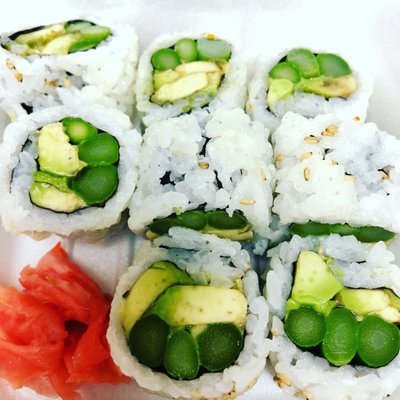curry: (264, 47, 358, 117)
